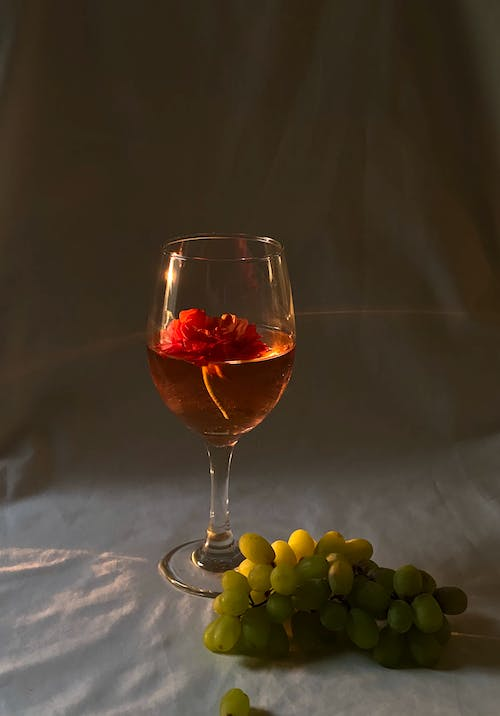alcohol: (143, 232, 299, 600)
